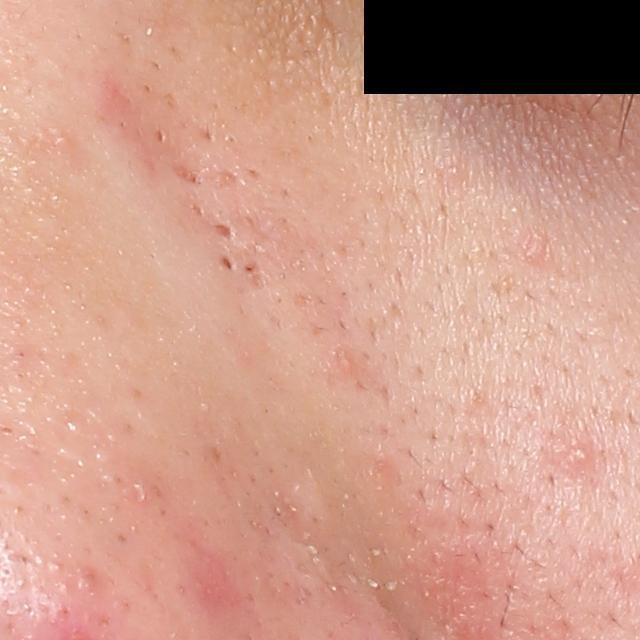atrophic_scar: (167, 165, 210, 189), (210, 222, 237, 244)
comedo: (217, 253, 237, 276), (243, 261, 259, 277), (155, 128, 166, 143)
pustule: (554, 439, 595, 468)
